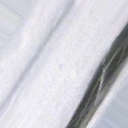crackTip: (63, 19, 128, 125)
